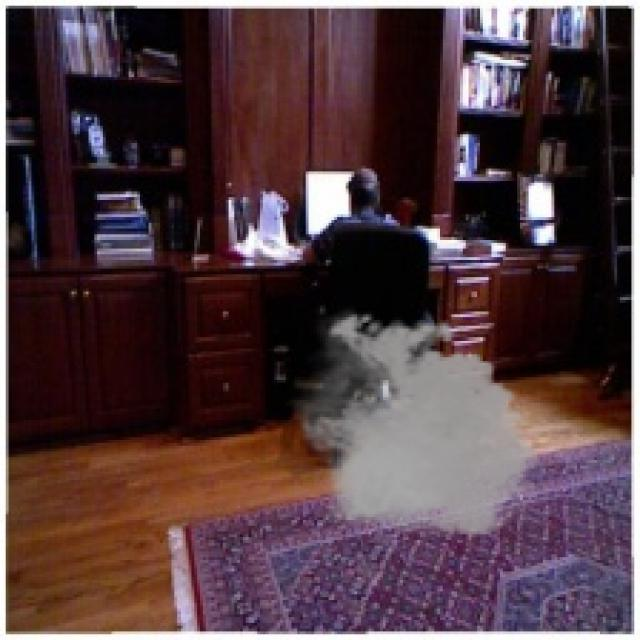smoke: (286, 306, 548, 546)
